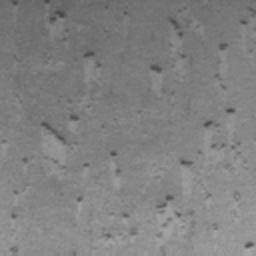Oxide scale of temperature system: (122, 106, 242, 247), (23, 113, 122, 207), (148, 15, 230, 91), (42, 0, 68, 44), (82, 50, 102, 86), (243, 241, 255, 256), (10, 212, 17, 228)
